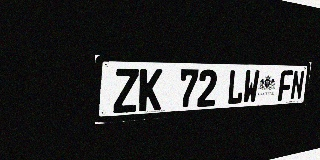2: (197, 69, 217, 107)
7: (177, 69, 199, 109)
F: (278, 70, 293, 101)
K: (138, 69, 163, 111)
L: (226, 70, 245, 105)
N: (290, 70, 305, 100)
W: (242, 70, 260, 104)
Z: (113, 68, 139, 113)
